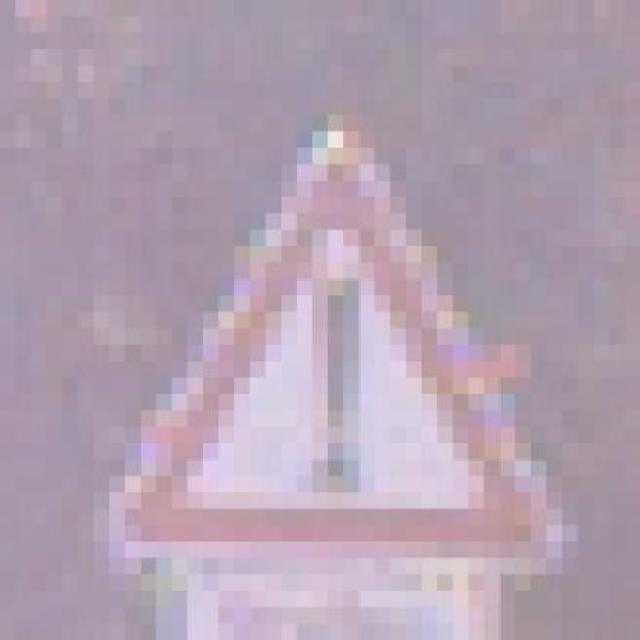Attention Please-: (62, 98, 593, 574)
